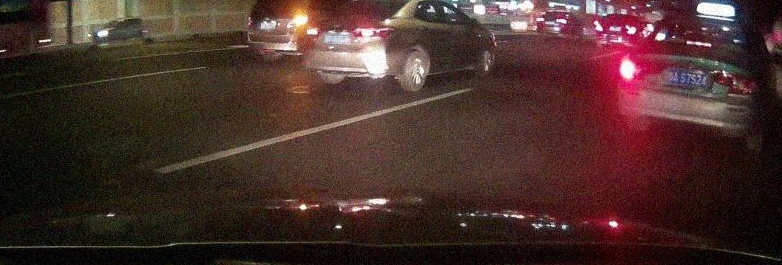L_light: (619, 58, 656, 79)
R_light: (716, 73, 757, 93)
T_light: (686, 40, 711, 46)
night-left: (616, 14, 767, 154)
